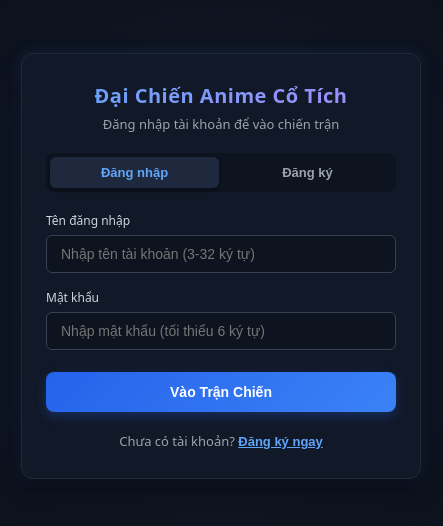
AuthScreen (authentication error mapping) › maps the authoritative USERNAME_ALREADY_EXISTS code to the duplicate-username message
Click the button with test id "tab-register" at coordinates (308, 172), box [223,157,392,188]
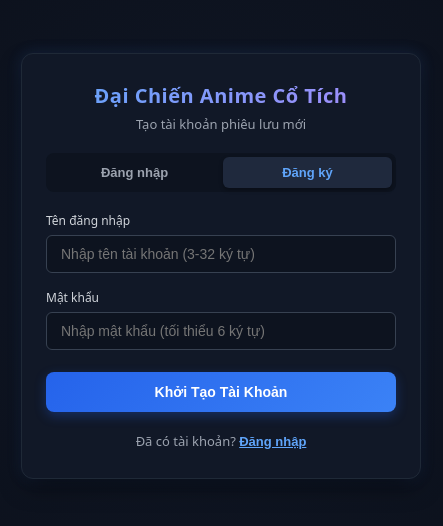
Type "playerone" into the field with test id "input-username" at coordinates (221, 254), box [46,235,396,273]
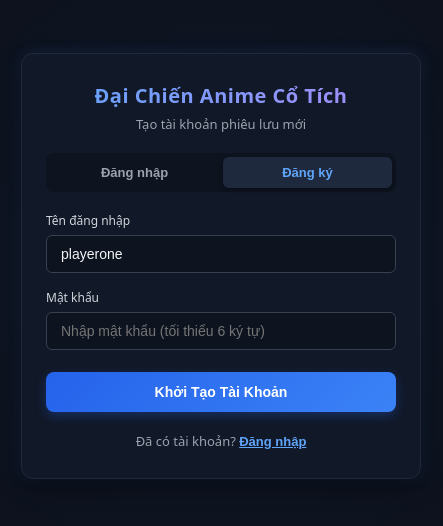
Type "secret123" into the password field with test id "input-password" at coordinates (221, 331), box [46,312,396,350]
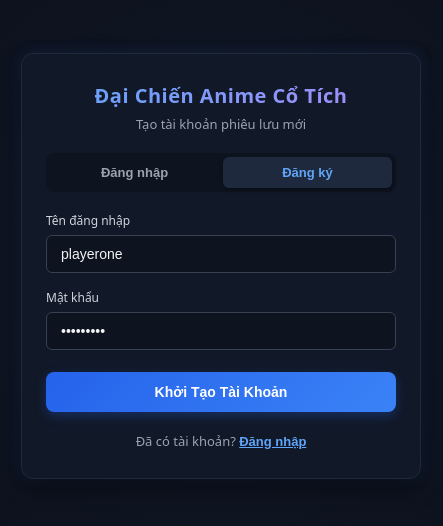
Click the button with test id "button-submit" at coordinates (221, 392), box [46,372,396,412]
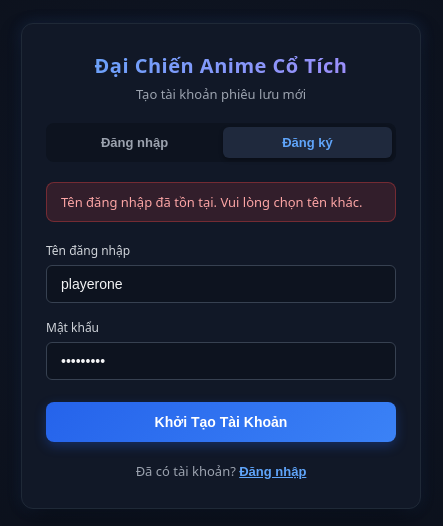
Result: the message "Tên đăng nhập đã tồn tại. Vui lòng chọn tên khác." is shown at [46,182,396,222]
Result: the message with test id "auth-error-banner" reads "Tên đăng nhập đã tồn tại. Vui lòng chọn tên khác." at [61,193,362,211]
